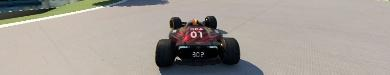Car: (154, 15, 240, 66)
